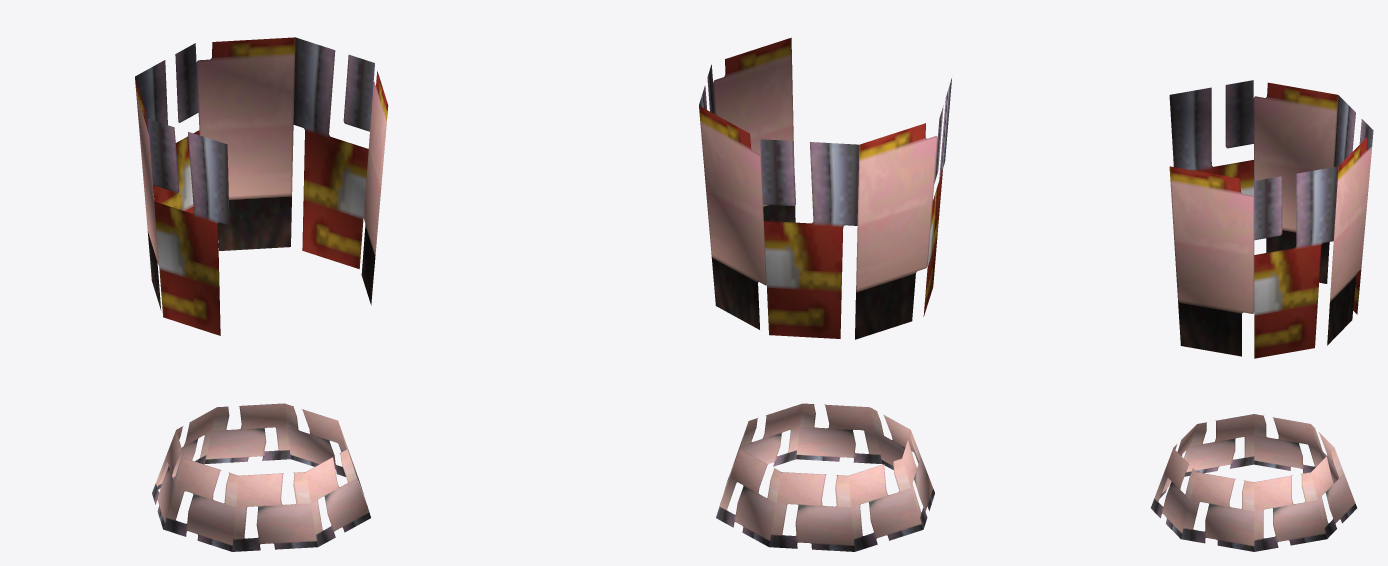
3 views of the same model, side by side, from view 1: azimuth 30°, elevation 25°; view 2: azimuth 150°, elevation 25°; view 3: azimuth 270°, elevation 25° (orthographic). The views are drawn at different scales.
Visible parts, largest first — view 1: T1L7M002_23; view 2: T1L7M002_23; view 3: T1L7M002_23.
Boxes of the visible parts, <box> form: T1L7M002_23: <box>135,37,388,551</box>; T1L7M002_23: <box>699,37,951,551</box>; T1L7M002_23: <box>1151,80,1373,551</box>.
Size of the model in its own units: 1.01 by 0.8037 by 0.4326.
